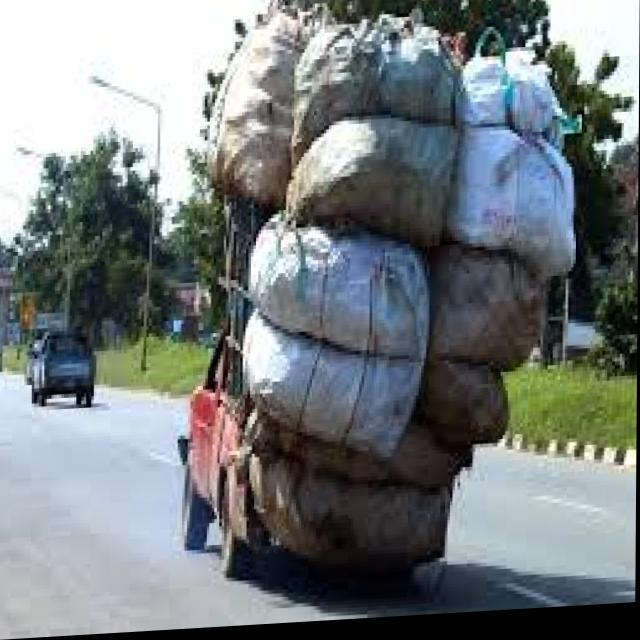uncovered: (178, 4, 580, 628)
